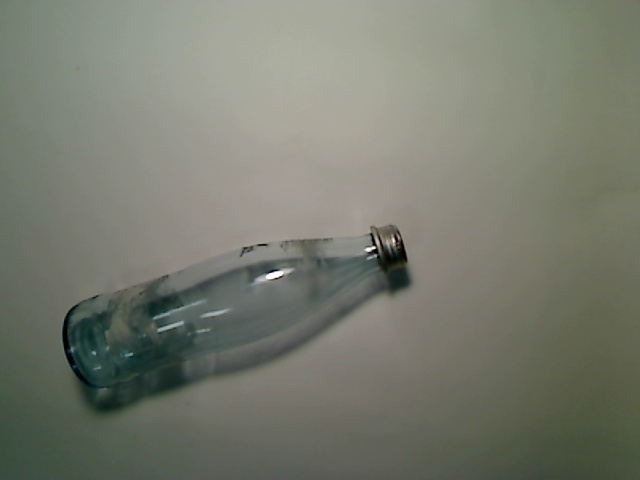bottle: (62, 220, 410, 390)
